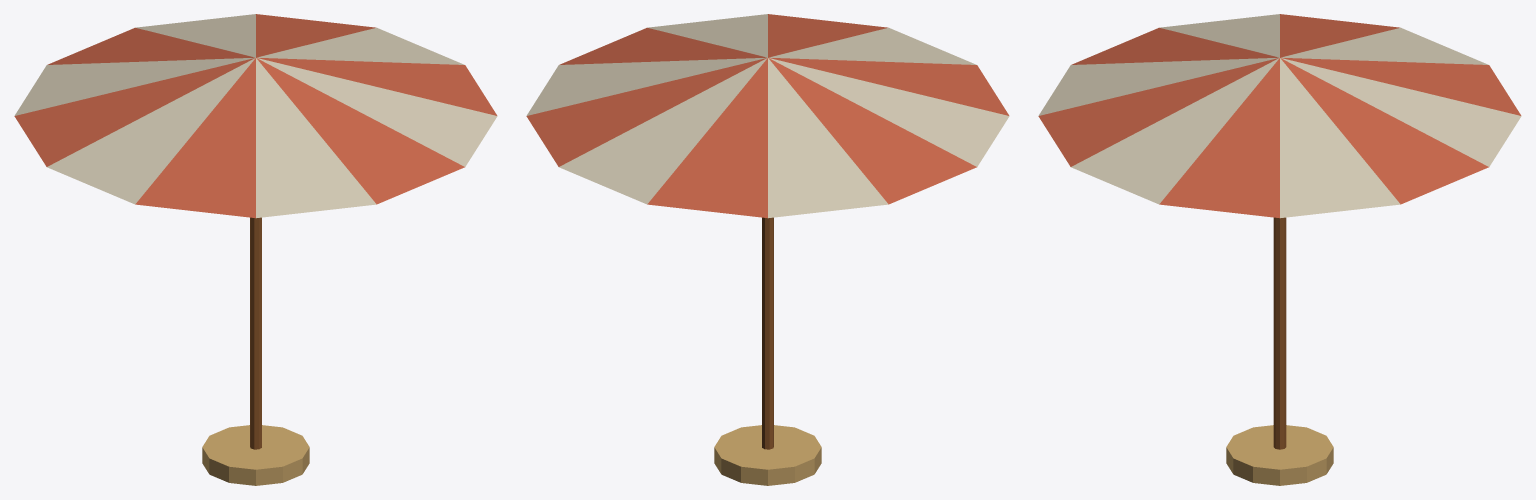
Rendered from parasol.glb.
3 views of the same model, side by side, from view 1: azimuth 30°, elevation 25°; view 2: azimuth 150°, elevation 25°; view 3: azimuth 270°, elevation 25° (orthographic).
Parts seen in each view (by area): view 1: parasol_pc; view 2: parasol_pc; view 3: parasol_pc.
Part boxes in pixels (x1,y1,x2,y2): parasol_pc: (14, 14, 497, 485); parasol_pc: (526, 14, 1009, 485); parasol_pc: (1038, 14, 1521, 485).
Bounding box in the file's own units: 2.7 × 2.5 × 2.7.
